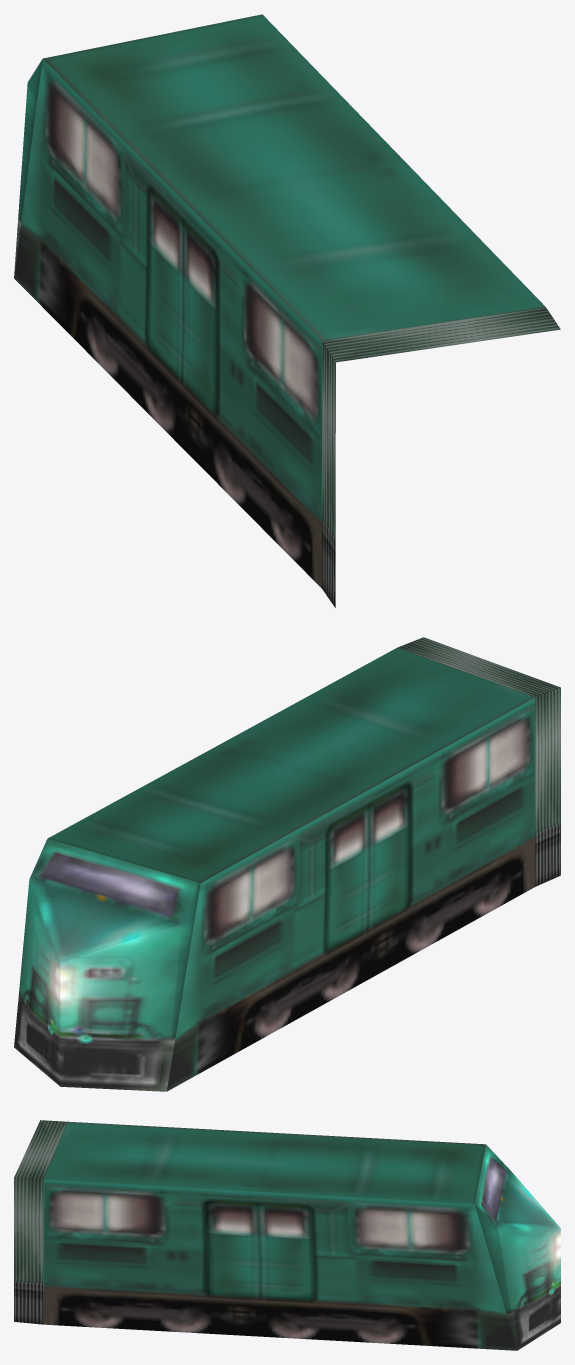
The model's file is Train.glb.
3 renders of one model, top to bottom at view 1: azimuth 30°, elevation 25°; view 2: azimuth 150°, elevation 25°; view 3: azimuth 270°, elevation 25°, orthographic. The views are drawn at different scales.
Parts seen in each view (by area): view 1: Train; view 2: Train; view 3: Train.
Boxes of the visible parts, bbox=[...] form: Train: bbox=[14, 14, 560, 607]; Train: bbox=[14, 637, 560, 1091]; Train: bbox=[14, 1120, 560, 1350].
Bounding box in the file's own units: 701 × 545 × 1857.
2 materials, 2 textured.
